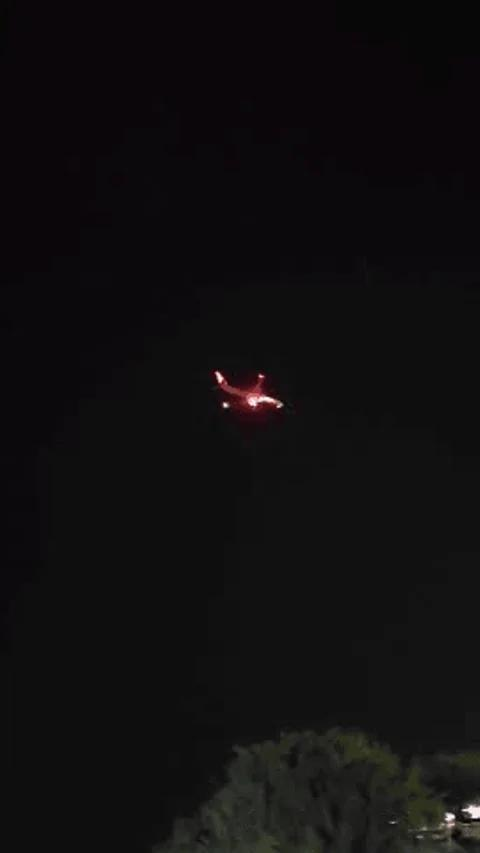Plane: (189, 331, 315, 473)
